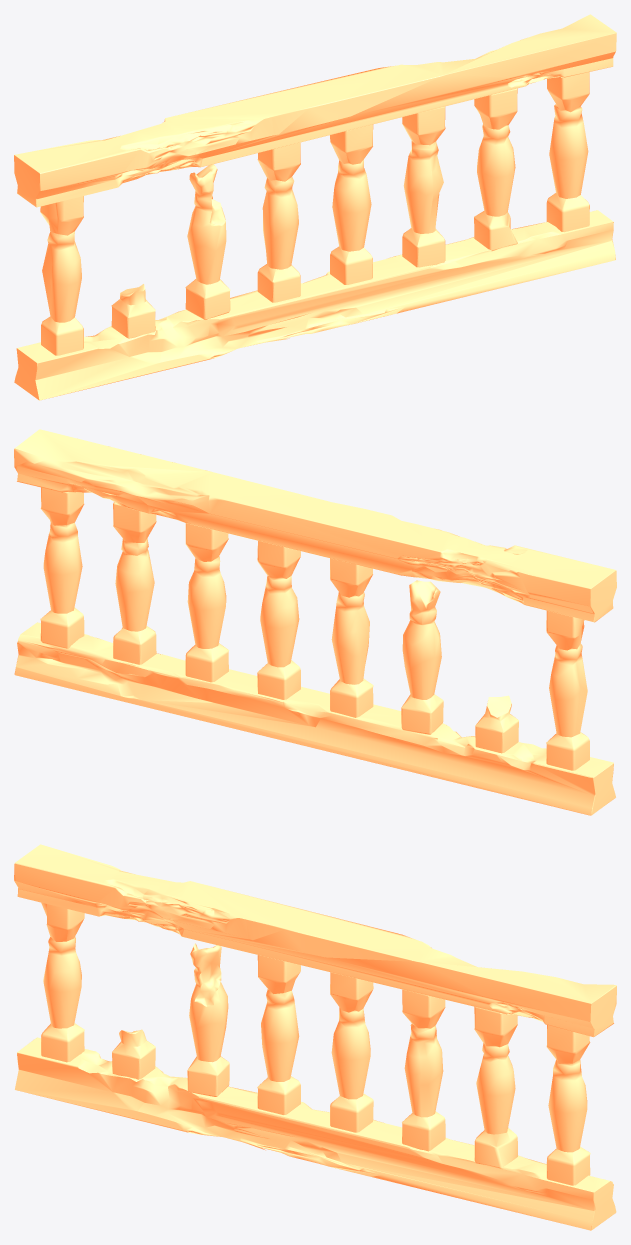
Rendered from SM_Pillars_Navigation.fbx.
3 views of the same model, one above another, from view 1: azimuth 30°, elevation 25°; view 2: azimuth 150°, elevation 25°; view 3: azimuth 330°, elevation 25° (orthographic).
Parts seen in each view (by area): view 1: SM_Pillars_Navigation_LOD0; view 2: SM_Pillars_Navigation_LOD0; view 3: SM_Pillars_Navigation_LOD0.
Boxes of the visible parts, box(x1,y1,x2,y2) form: SM_Pillars_Navigation_LOD0: box(14, 14, 616, 400); SM_Pillars_Navigation_LOD0: box(14, 429, 616, 815); SM_Pillars_Navigation_LOD0: box(14, 844, 616, 1230).
Size of the model in its own units: 400 by 31.86 by 152.
